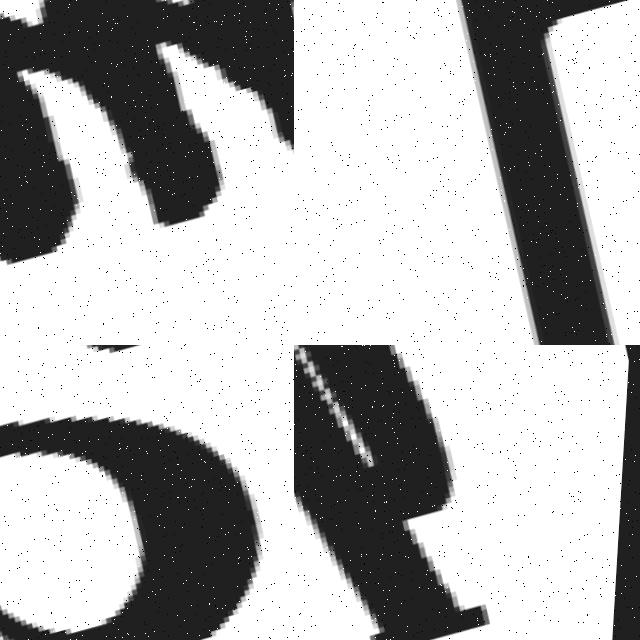1: (330, 0, 640, 345)
A: (0, 345, 294, 640)
M: (0, 0, 294, 290)
Q: (294, 345, 531, 640)
